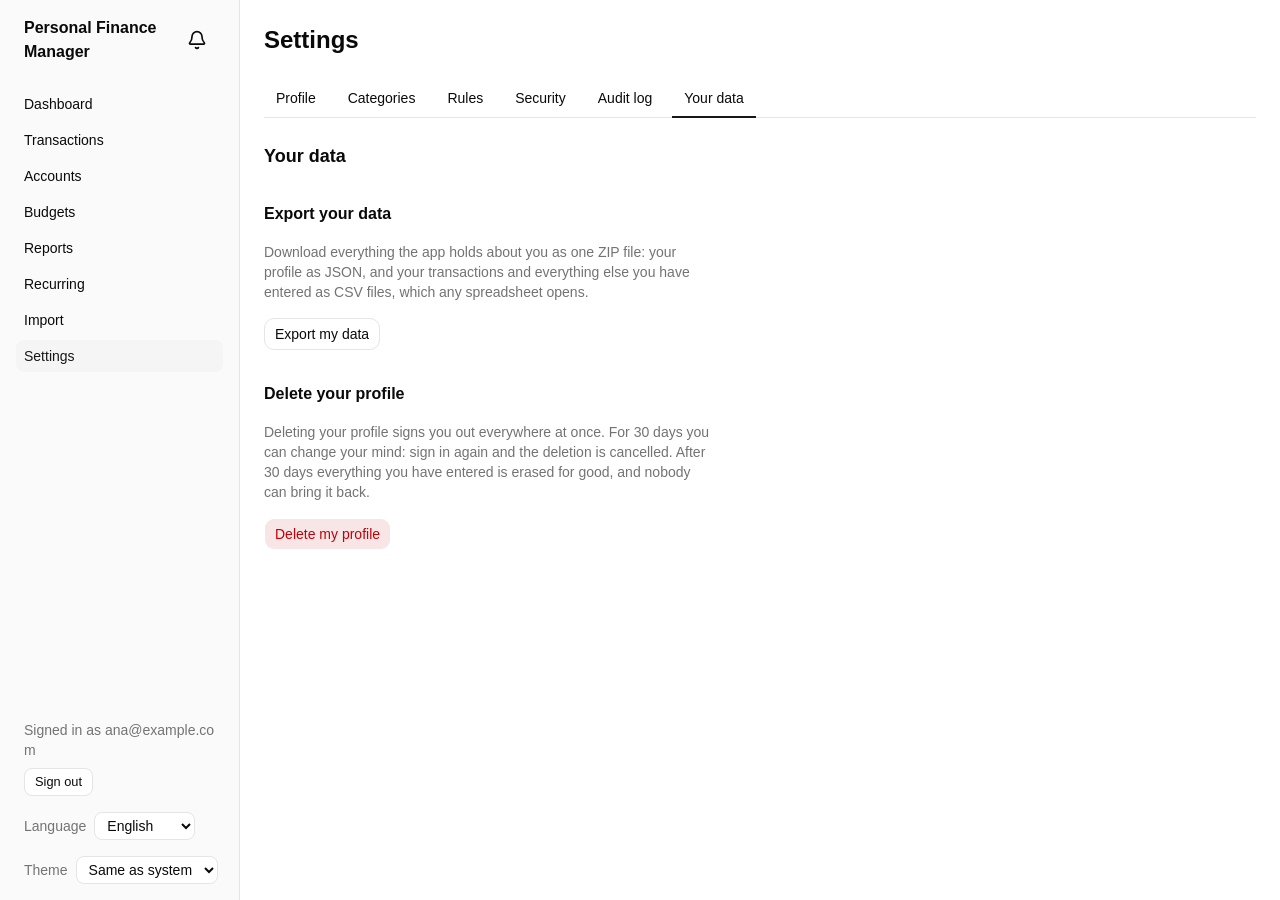
Test: deleting your profile › asks for the password without contacting the API when it is left empty
The image size is (1280, 900).
Step 1. Click the button "Delete my profile" → x=328, y=534, box [264,518,391,550]
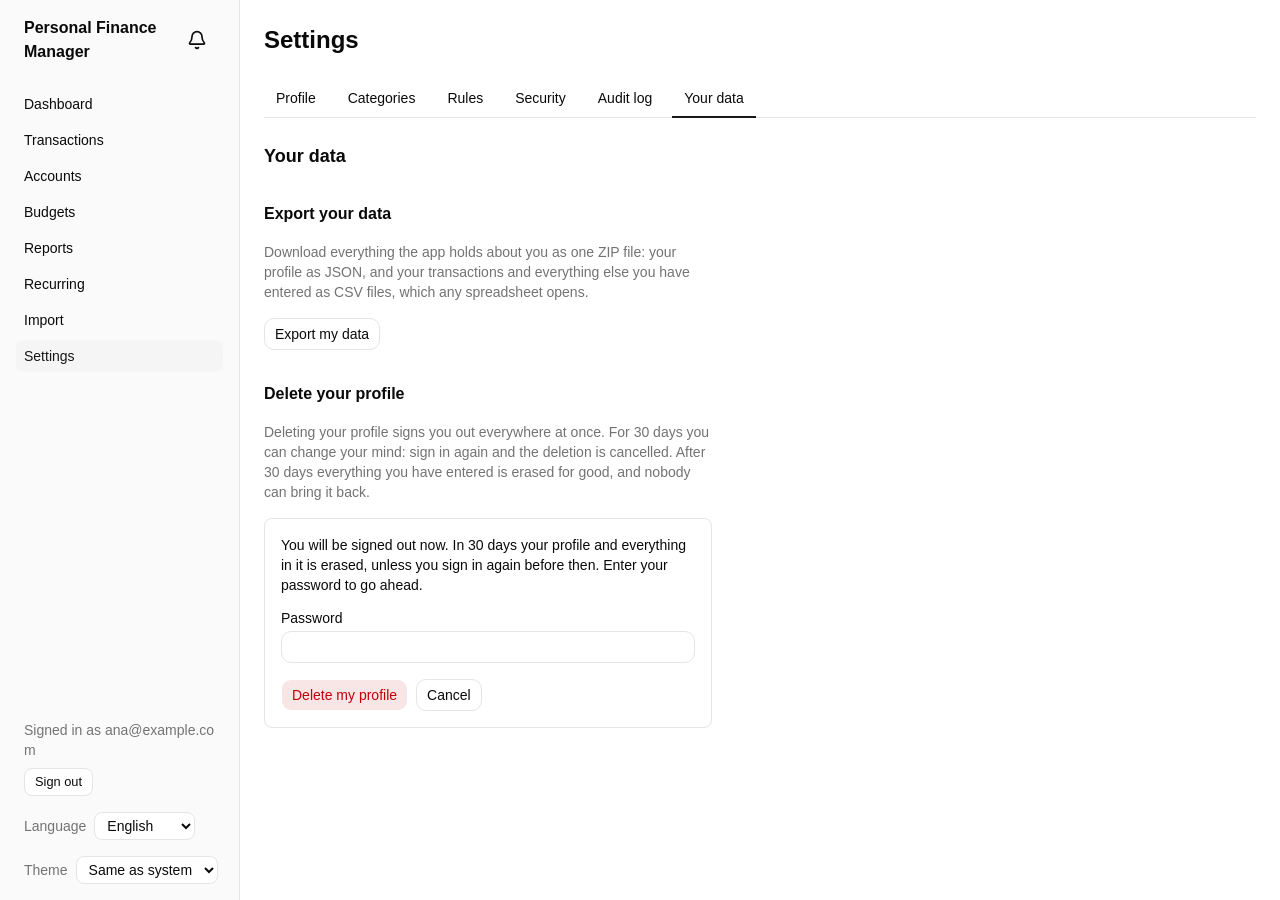
Step 2. Click the button "Delete my profile" → x=344, y=695, box [281,679,408,711]
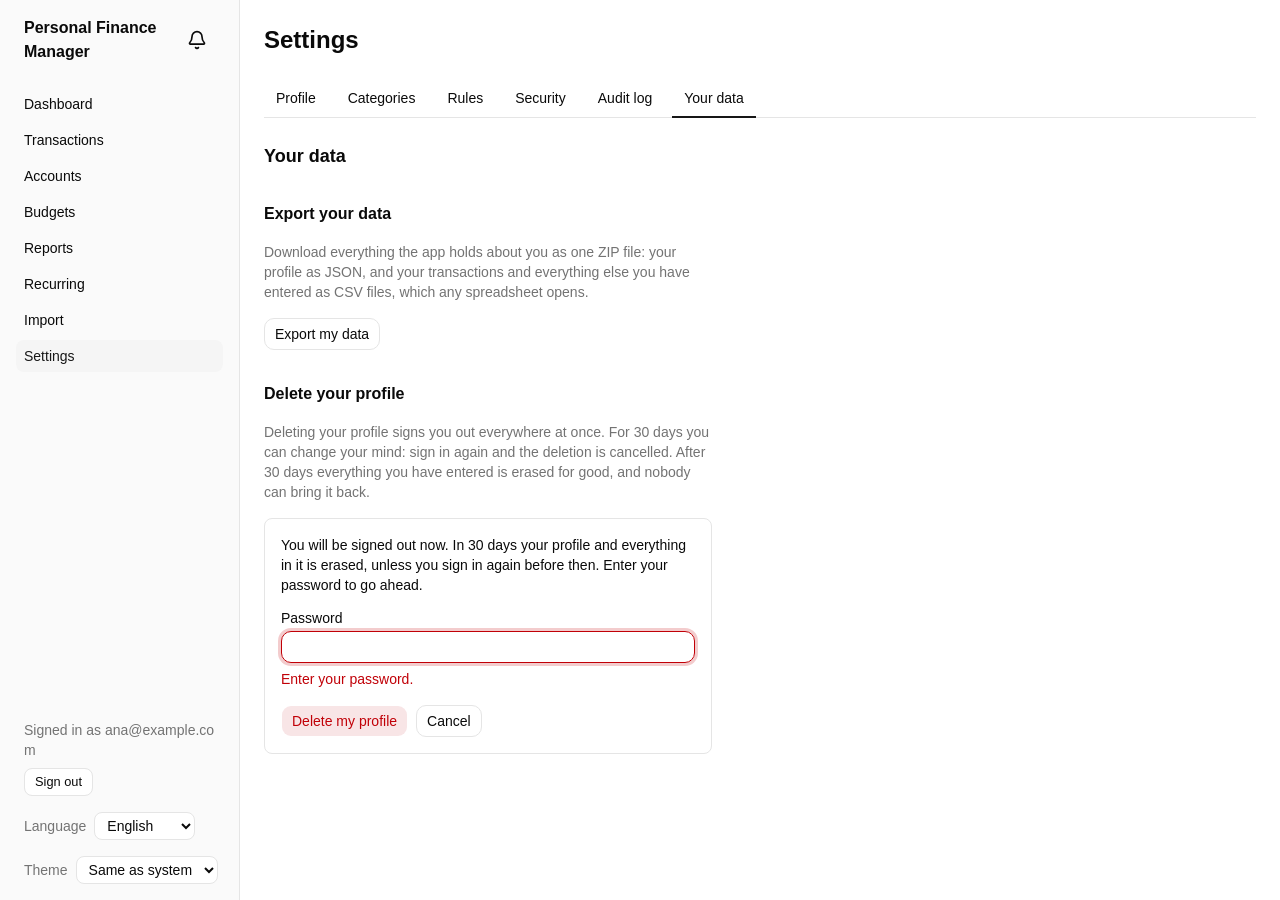
Expected: the text "Enter your password." is shown, [281,671,413,687]
